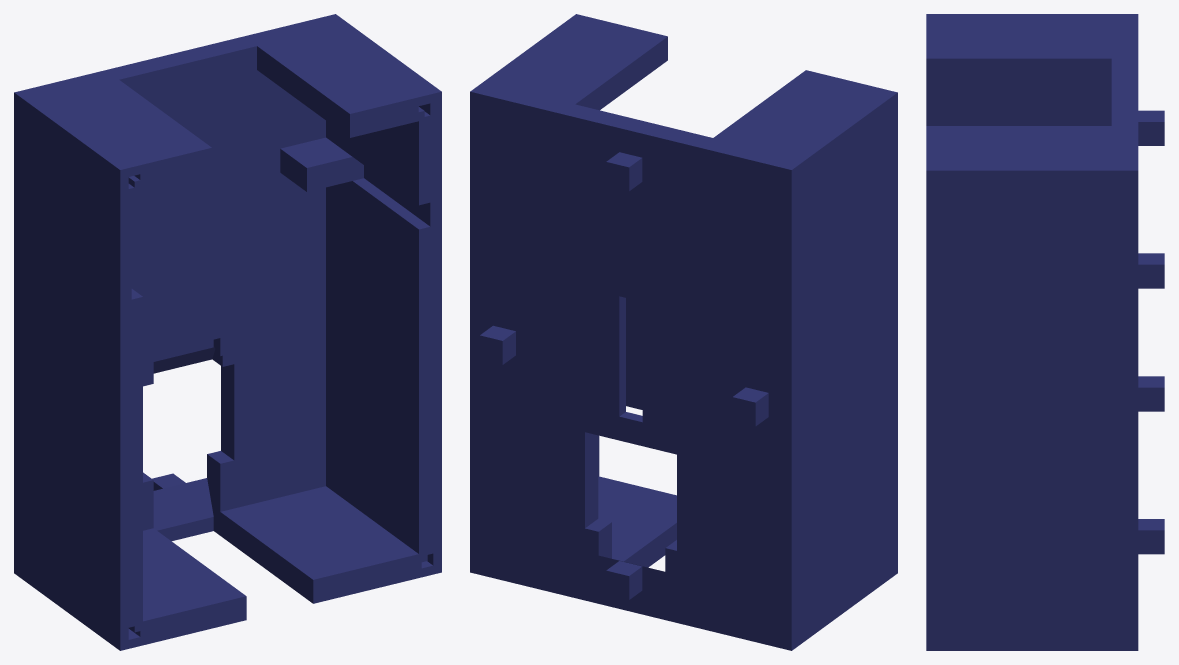
The model's file is tinker.obj.
3 views of the same model, side by side, from view 1: azimuth 30°, elevation 25°; view 2: azimuth 150°, elevation 25°; view 3: azimuth 270°, elevation 25° (orthographic).
Parts seen in each view (by area): view 1: obj_0; view 2: obj_0; view 3: obj_0.
Part boxes in pixels (left/top/right/bottom): obj_0: left=14, top=14, right=441, bottom=650; obj_0: left=470, top=14, right=897, bottom=650; obj_0: left=926, top=14, right=1164, bottom=650.
Bounding box in the file's own units: 14 × 20 × 9.
